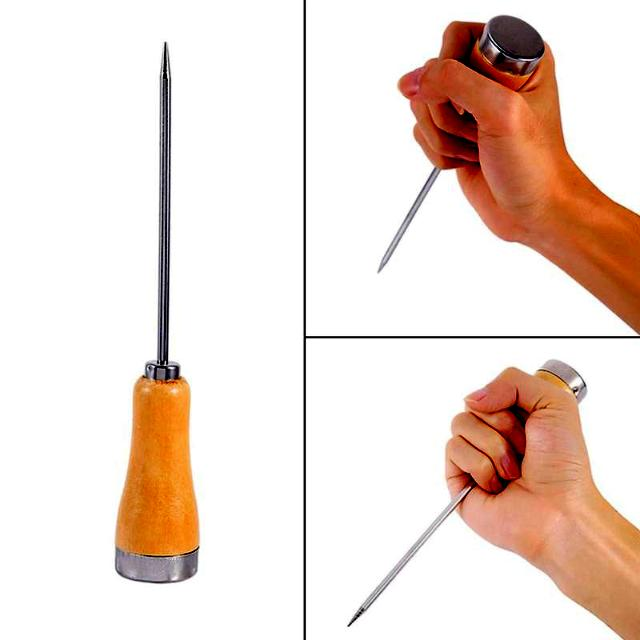ice pick: (346, 361, 586, 629), (115, 42, 202, 584), (376, 15, 544, 273)
